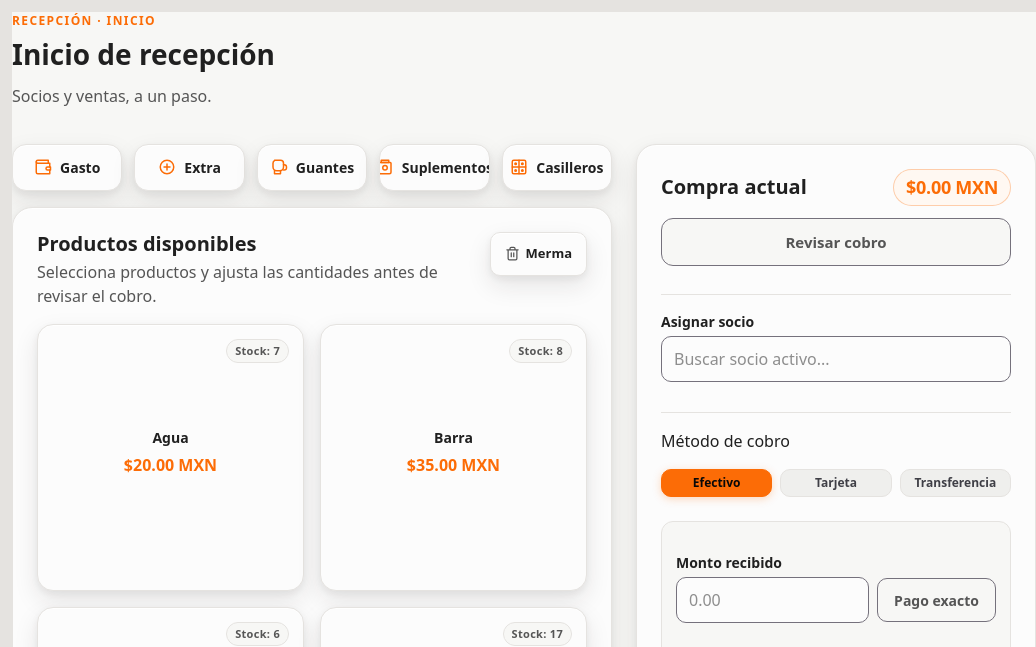
Test: Reception Home overview › assigns a member to the cart, preselects favorite payment and allows unassigning
Click the dropdown labelled "Asignar socio" at (836, 359), box [661,336,1011,382]
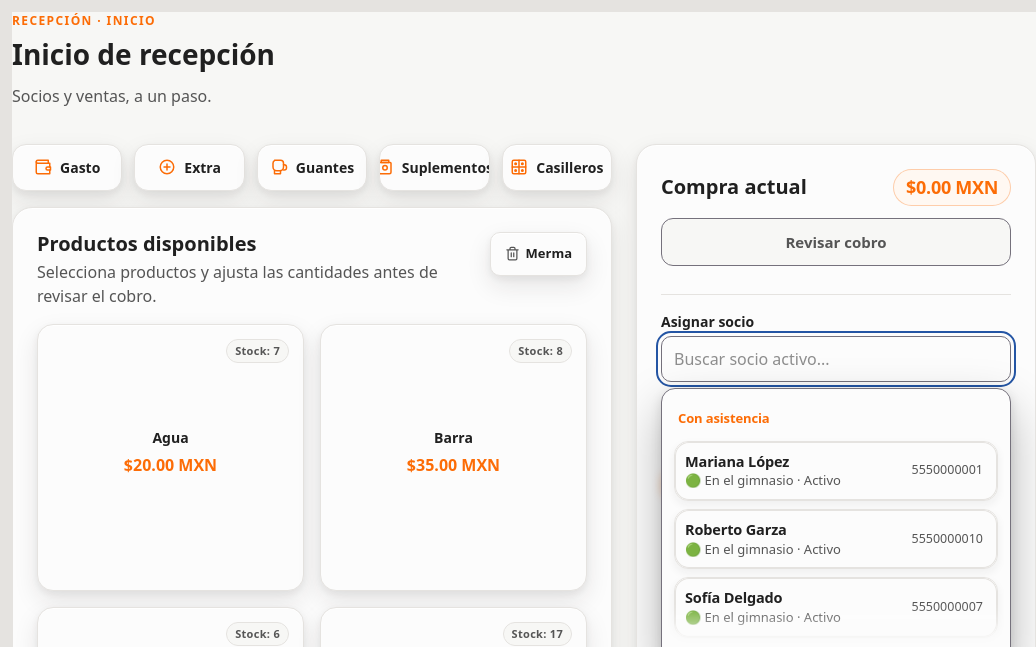
Click the text "Mariana López" at (737, 461), box [685,451,789,471]
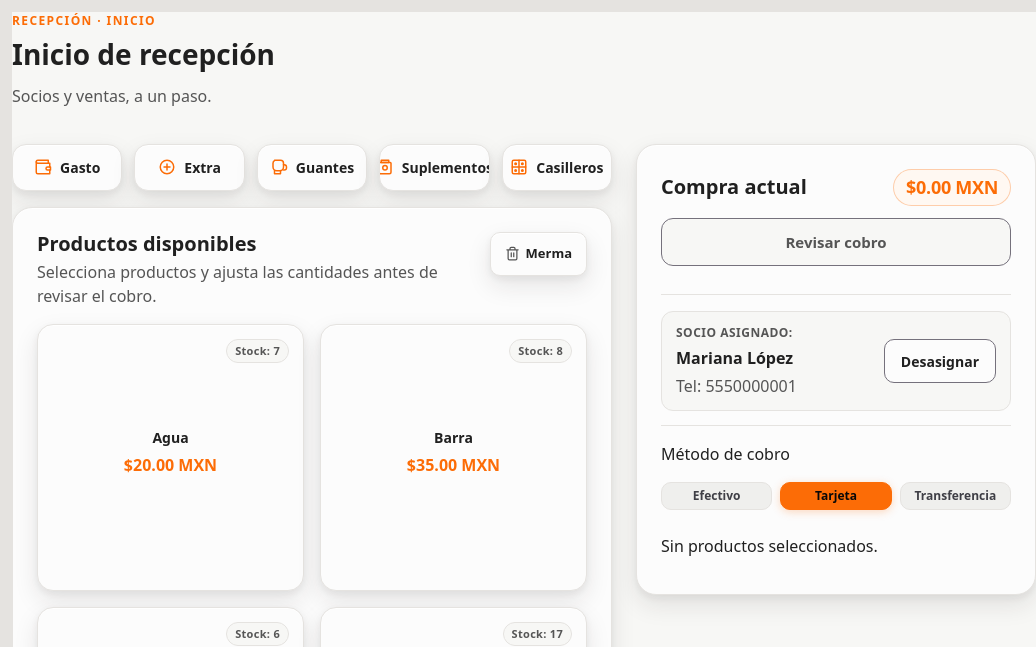
Expected: the text "Mariana López" is shown, [676,346,797,370]
Click the button with aria-label "Desasignar socio" at (940, 361), box [884,339,996,383]
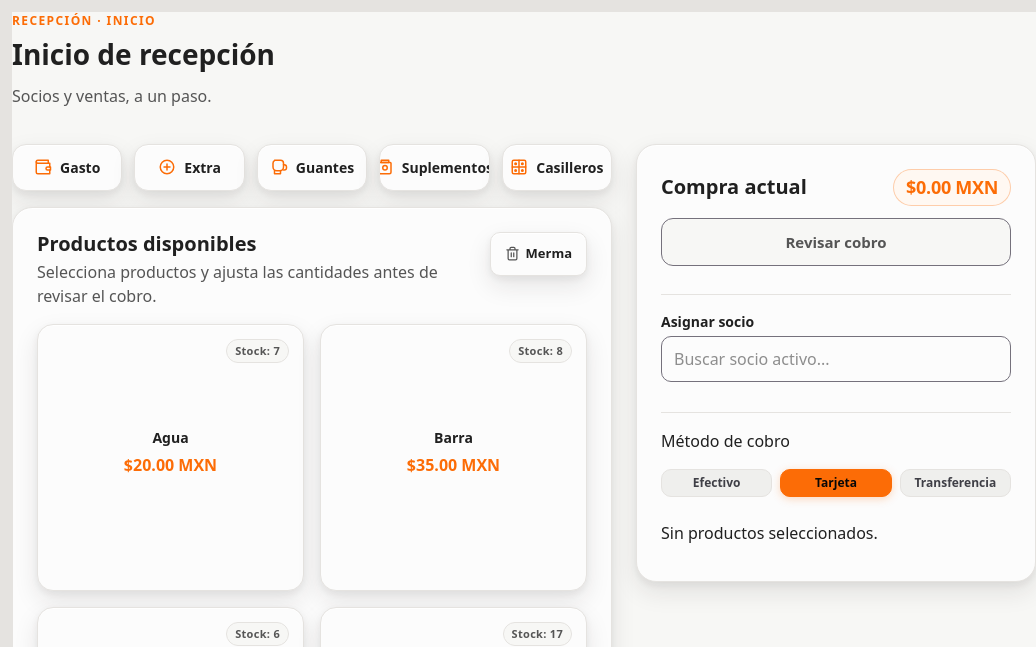
Expected: the text "Socio asignado:" is gone
Expected: the dropdown labelled "Asignar socio" is shown, [661,336,1011,382]
